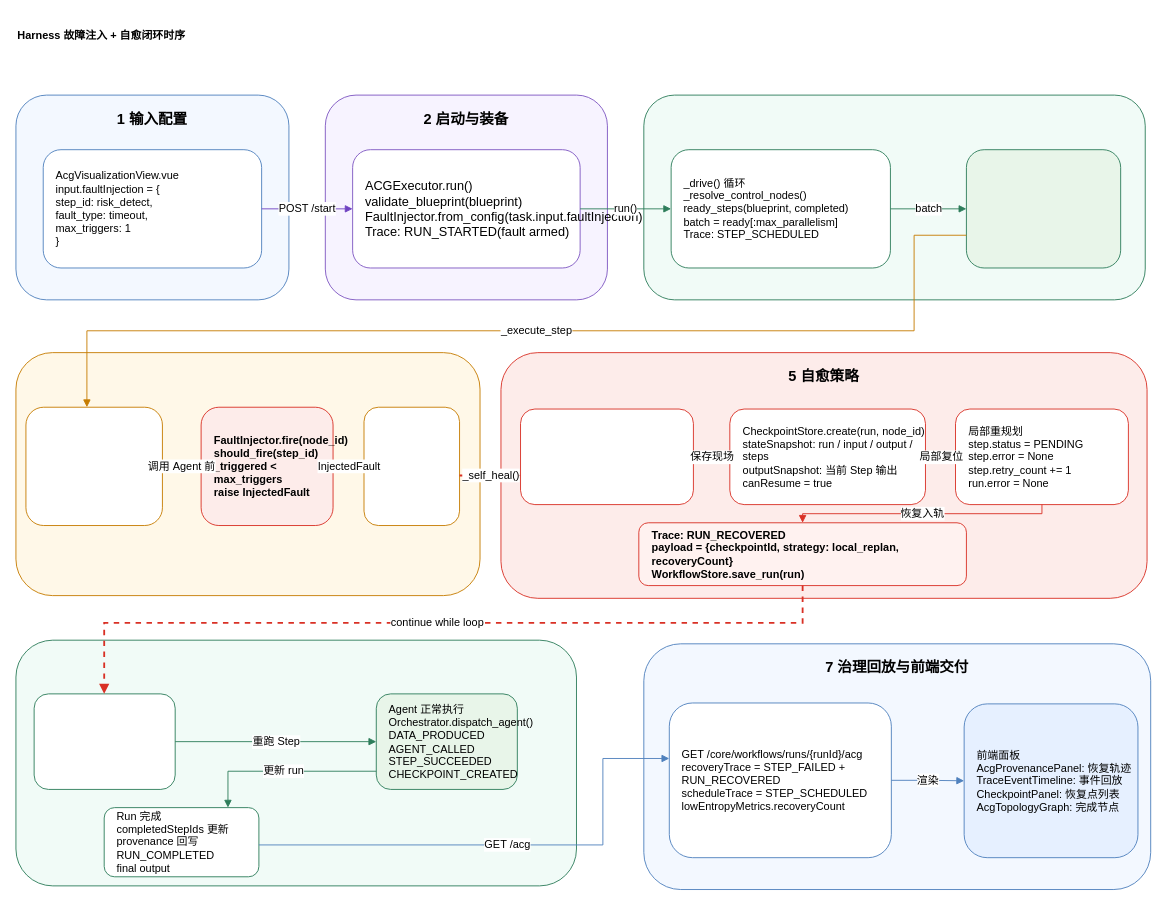
This 1167x905 diagram has some shape labels left out. The box of each missing label's shape, as (x1, y1, x2, y2) in pixels:
3 就绪集调度: (643, 94, 1145, 300)
4 故障触发: (15, 352, 480, 596)
6 重新调度与完成: (15, 639, 576, 886)
_execute_step() STEP_STARTED ContextAssembler.assemble() Trace: DATA_CONSUMED: (25, 406, 162, 526)
asyncio.gather(..., return_exceptions=True) 批量执行可并行 Step 异常作为结果回收: (966, 149, 1121, 268)
Trace: STEP_FAILED payload = {faultType, recoverable: true} run.recovery_count++: (520, 408, 693, 505)
下一轮 _drive() ready_steps 重新发现该 Step 故障达到 max_triggers 后不再触发: (33, 693, 175, 789)
结果结算 isinstance(outcome, InjectedFault) 进入 _self_heal(): (363, 406, 460, 526)
